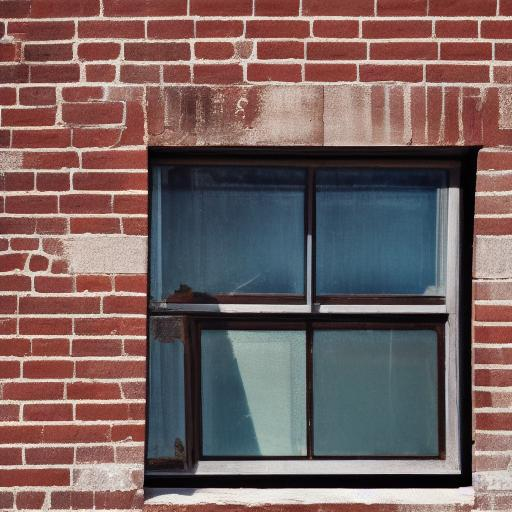Window: (143, 85, 478, 512)
